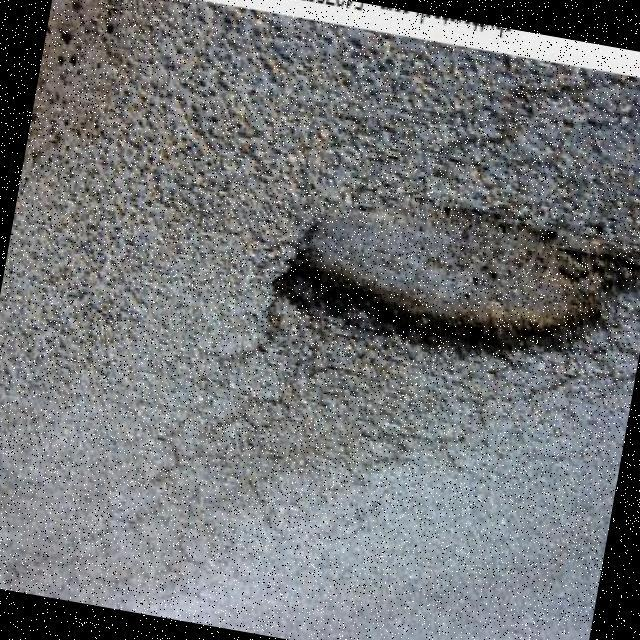Pothole: (271, 205, 640, 351)
